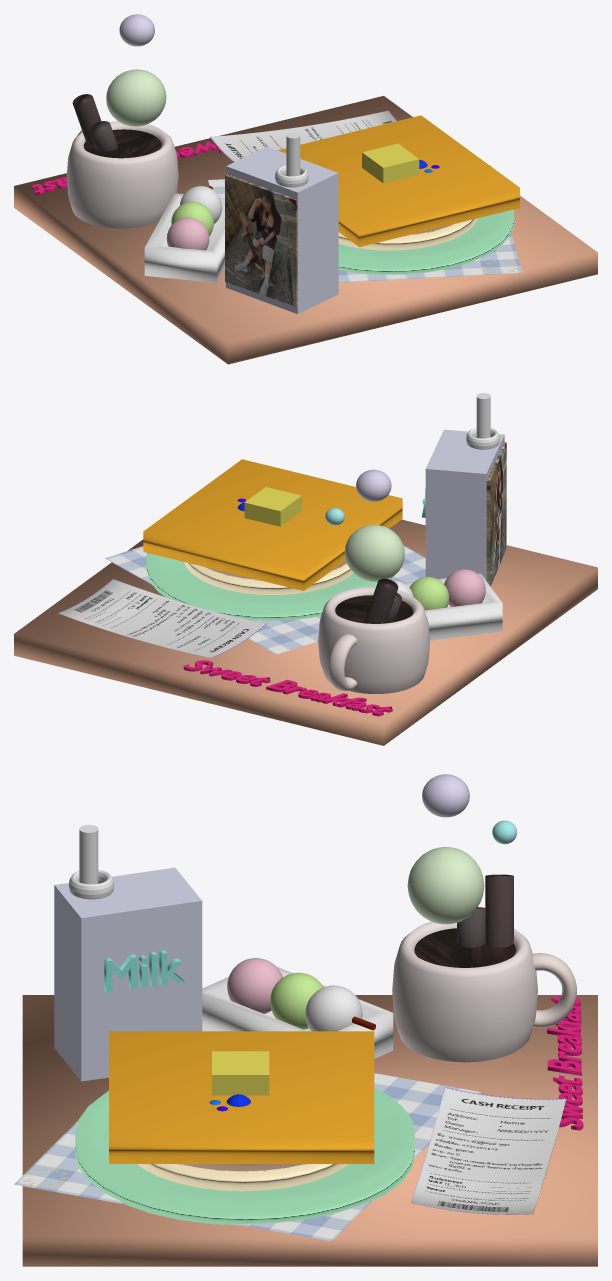
File: Breakfastfinal2.glb
3 views of the same model, one above another, from view 1: azimuth 30°, elevation 25°; view 2: azimuth 150°, elevation 25°; view 3: azimuth 270°, elevation 25° (orthographic). The views are drawn at different scales.
Parts seen in each view (by area): view 1: Plane, Cube.004, Torus, Cube, Plane.002, Cylinder, Cube.002, SurfPatch, Sphere, Plane.001, Cube.001, Cylinder.003 (+10 smaller); view 2: Plane, Cube.004, Cube, SurfPatch, Torus, Cylinder, Plane.001, Sphere, Cube.002, Plane.002, Text.002, Cylinder.003 (+9 smaller); view 3: Plane, Cube.004, Cube, Cylinder, SurfPatch, Torus, Plane.001, Sphere, Cube.002, Cylinder.003, Text.002, Cube.001 (+12 smaller).
Boxes of the visible parts, box(x1,y1,x2,y2) form: Plane: box(14, 96, 597, 364); Cube.004: box(278, 115, 519, 246); Torus: box(66, 121, 178, 228); Cube: box(226, 146, 338, 313); Plane.002: box(225, 174, 297, 306); Cylinder: box(338, 209, 513, 274); Cube.002: box(144, 193, 224, 282); SurfPatch: box(210, 110, 396, 162); Sphere: box(106, 69, 166, 126); Plane.001: box(208, 165, 522, 282); Cube.001: box(362, 143, 419, 183); Cylinder.003: box(338, 218, 477, 250); Plane: box(14, 519, 597, 745); Cube.004: box(143, 459, 402, 590); Cube: box(425, 429, 504, 580); SurfPatch: box(58, 579, 266, 657); Torus: box(318, 587, 429, 693); Cylinder: box(146, 553, 395, 620); Plane.001: box(105, 545, 425, 654); Sphere: box(344, 524, 404, 581); Cube.002: box(405, 573, 502, 640); Plane.002: box(486, 442, 506, 586); Text.002: box(183, 660, 392, 716); Cylinder.003: box(184, 562, 353, 594); Plane: box(22, 995, 597, 1266); Cube.004: box(109, 1031, 374, 1163); Cube: box(54, 867, 202, 1081); Cylinder: box(75, 1088, 414, 1225); SurfPatch: box(411, 1087, 566, 1214); Torus: box(392, 921, 537, 1062); Plane.001: box(14, 1073, 480, 1241); Sphere: box(407, 847, 484, 924); Cube.002: box(202, 966, 393, 1058); Cylinder.003: box(137, 1164, 347, 1191); Text.002: box(547, 995, 583, 1130); Cube.001: box(212, 1051, 269, 1095).
Size of the model in its own units: 12.24 by 6.7 by 12.18.
26 materials, 4 textured.
